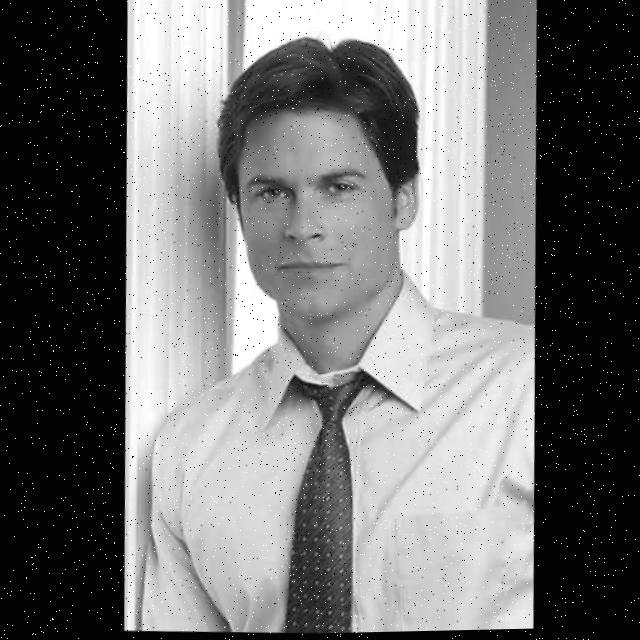face: (208, 36, 435, 325)
